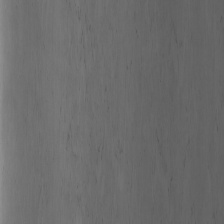silk_spot: (55, 24, 183, 204)
